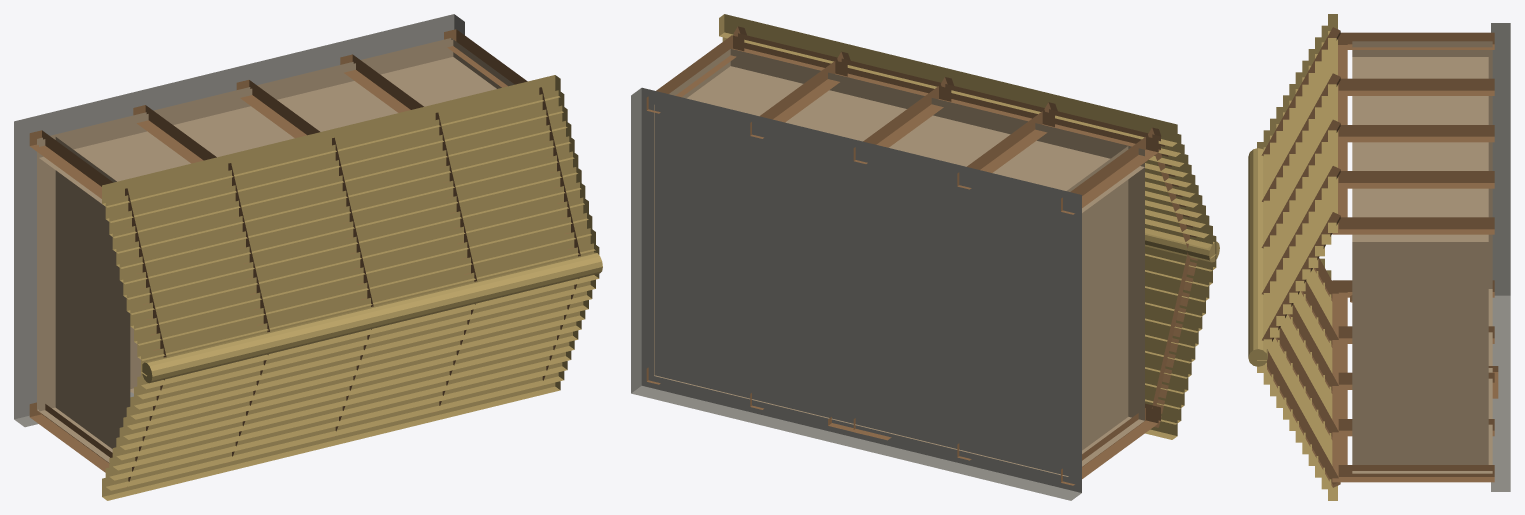
File: hut.glb
3 views of the same model, side by side, from view 1: azimuth 30°, elevation 25°; view 2: azimuth 150°, elevation 25°; view 3: azimuth 270°, elevation 25° (orthographic). The views are drawn at different scales.
Parts seen in each view (by area): view 1: left_wall, rear_wall, rammed_earth_foundation, tied_ridge, thatch_1_11, thatch_1_10, thatch_1_8, thatch_1_6, thatch_1_4, thatch_1_7, thatch_1_9, thatch_1_3 (+24 smaller); view 2: rammed_earth_foundation, rear_wall, left_wall, thatch_1_11, eave_beam_2.5, post_-4_2.5, post_0_2.5, post_-2_2.5, post_2_2.5, rafter_L_-4, post_-4_-2.5, post_4_2.5 (+14 smaller); view 3: right_wall, rear_wall, rammed_earth_foundation, tied_ridge, post_2_2.5, post_4_2.5, post_0_2.5, post_-2_2.5, post_4_-2.5, eave_beam_-2.5, post_-4_2.5, thatch_1_11 (+36 smaller).
Boxes of the visible parts, x1,y1,x2,y2 form: left_wall: (39, 137, 130, 462); rear_wall: (39, 39, 514, 206); rammed_earth_foundation: (14, 14, 464, 427); tied_ridge: (142, 252, 602, 383); thatch_1_11: (102, 75, 560, 207); thatch_1_10: (105, 90, 564, 222); thatch_1_8: (112, 121, 571, 253); thatch_1_6: (119, 151, 578, 284); thatch_1_4: (126, 182, 585, 314); thatch_1_7: (116, 136, 574, 268); thatch_1_9: (109, 105, 567, 238); thatch_1_3: (130, 197, 588, 330); rammed_earth_foundation: (631, 87, 1081, 500); rear_wall: (669, 49, 1144, 212); left_wall: (1066, 146, 1144, 466); thatch_1_11: (719, 14, 1177, 146); eave_beam_2.5: (728, 33, 1160, 151); post_-4_2.5: (1061, 136, 1158, 214); post_0_2.5: (853, 86, 951, 163); post_-2_2.5: (957, 111, 1054, 189); post_2_2.5: (750, 60, 847, 138); rafter_L_-4: (1152, 252, 1197, 427); post_-4_-2.5: (1061, 407, 1158, 485); post_4_2.5: (646, 35, 744, 113); right_wall: (1352, 242, 1488, 473); rear_wall: (1352, 41, 1488, 241); rammed_earth_foundation: (1491, 23, 1510, 491); tied_ridge: (1248, 148, 1267, 366); post_2_2.5: (1338, 171, 1494, 188); post_4_2.5: (1338, 217, 1494, 234); post_0_2.5: (1338, 125, 1494, 142); post_-2_2.5: (1338, 78, 1494, 95); post_4_-2.5: (1338, 465, 1494, 482); eave_beam_-2.5: (1332, 280, 1347, 482); post_-4_2.5: (1338, 32, 1494, 49); thatch_1_11: (1328, 14, 1337, 232).
Size of the model in its own units: 8.75 by 5.75 by 4.8.
